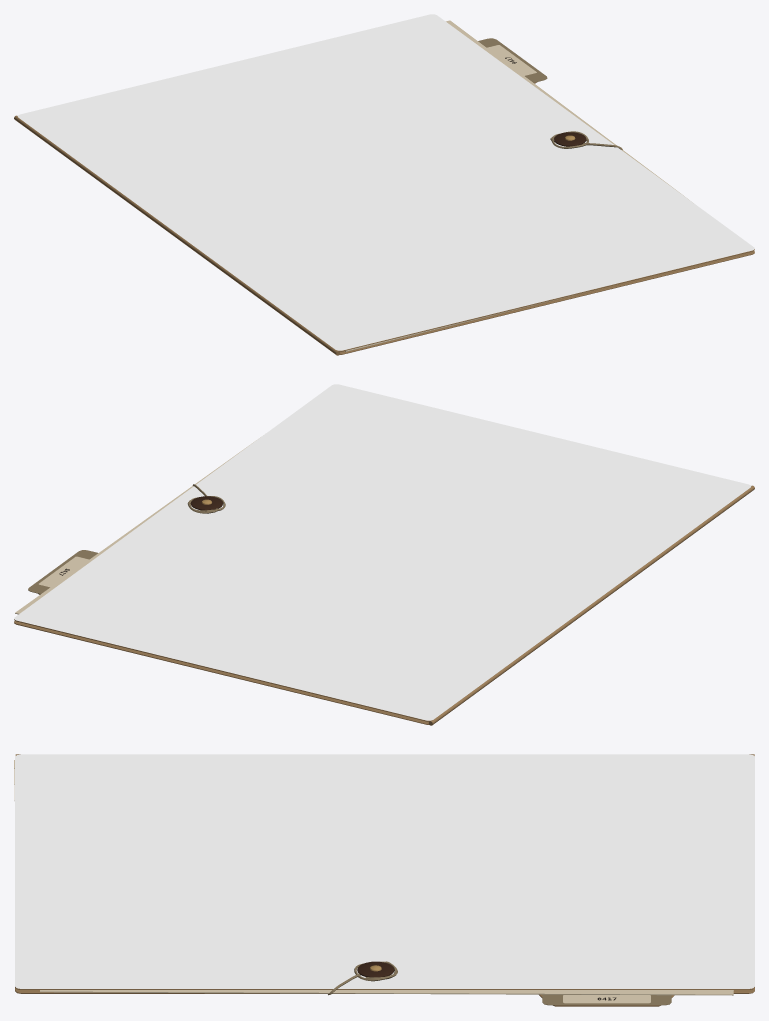
The model's file is file_folder.glb.
3 views of the same model, one above another, from view 1: azimuth 30°, elevation 25°; view 2: azimuth 150°, elevation 25°; view 3: azimuth 270°, elevation 25° (orthographic). The views are drawn at different scales.
Parts seen in each view (by area): view 1: folder_face, folder_body, file_folder; view 2: folder_face, folder_body, file_folder; view 3: folder_face, folder_body, file_folder.
Boxes of the visible parts, <box> form: folder_face: <box>17,14,754,350</box>; folder_body: <box>14,20,754,355</box>; file_folder: <box>340,82,754,354</box>; folder_face: <box>14,384,751,720</box>; folder_body: <box>14,437,754,725</box>; file_folder: <box>14,593,428,724</box>; folder_face: <box>15,754,754,988</box>; folder_body: <box>14,754,754,1005</box>; file_folder: <box>15,988,754,1006</box>.
Size of the model in its own units: 0.254 by 0.0051 by 0.3205.
